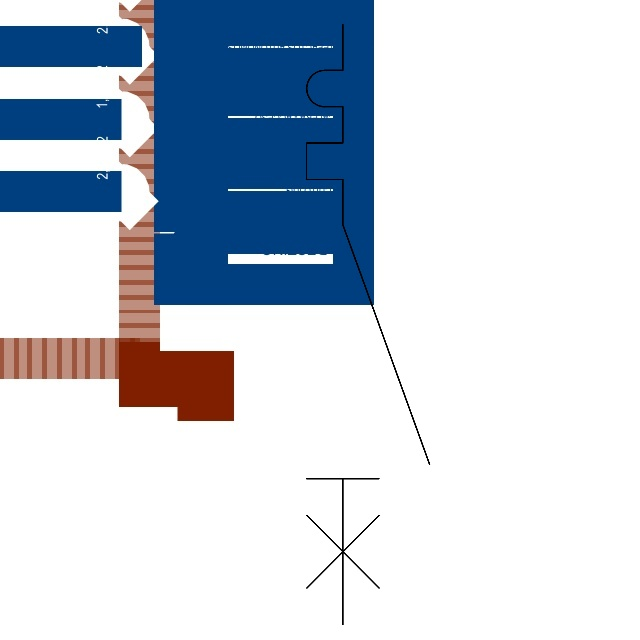interruptor_termomagnetico: (291, 9, 445, 640)
